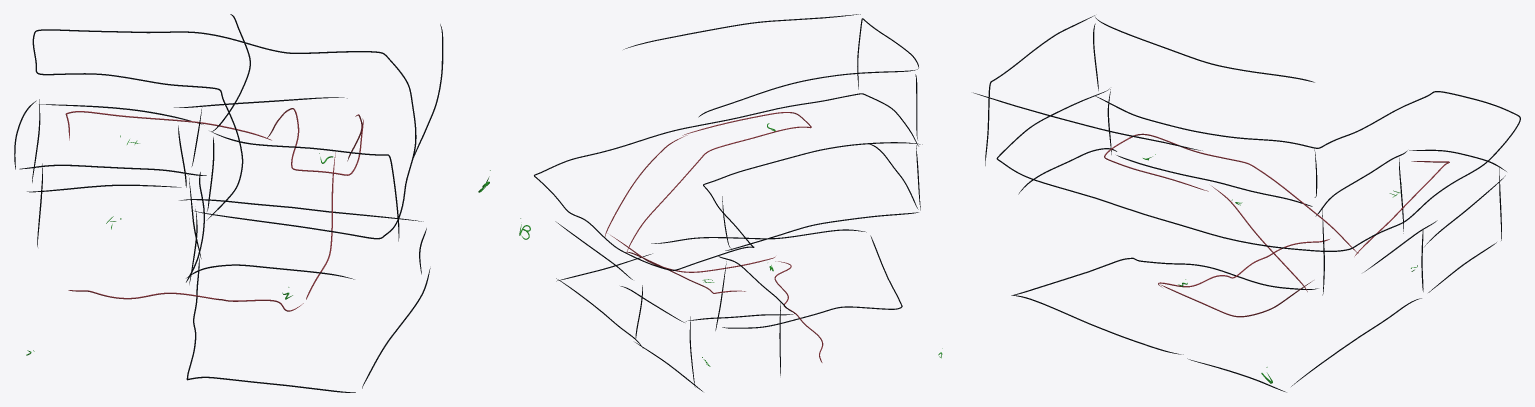
The picture shows the model from 3 angles, left to right: view 1: azimuth 30°, elevation 25°; view 2: azimuth 150°, elevation 25°; view 3: azimuth 270°, elevation 25°; orthographic projection. The views are drawn at different scales.
Visible parts, largest first — view 1: s.0032, s.0037, s.0034, s.0062, s.0074, s.0040, s.0073; view 2: s.0032, s.0073, s.0037, s.0036, s.0035; view 3: s.0032, s.0073, s.0037.
Boxes of the visible parts, left/top/right/bottom form: s.0032: left=32, top=29, right=416, bottom=239; s.0037: left=186, top=257, right=355, bottom=392; s.0034: left=210, top=131, right=399, bottom=241; s.0062: left=68, top=290, right=303, bottom=311; s.0074: left=65, top=111, right=271, bottom=140; s.0040: left=179, top=199, right=423, bottom=221; s.0073: left=267, top=108, right=363, bottom=175; s.0032: left=534, top=93, right=922, bottom=270; s.0073: left=626, top=112, right=811, bottom=252; s.0037: left=722, top=235, right=902, bottom=328; s.0036: left=623, top=14, right=860, bottom=49; s.0035: left=698, top=68, right=918, bottom=117; s.0032: left=996, top=88, right=1520, bottom=251; s.0073: left=1104, top=133, right=1358, bottom=253; s.0037: left=1012, top=257, right=1318, bottom=295.
Size of the model in its own units: 122 by 131 by 64.58.
